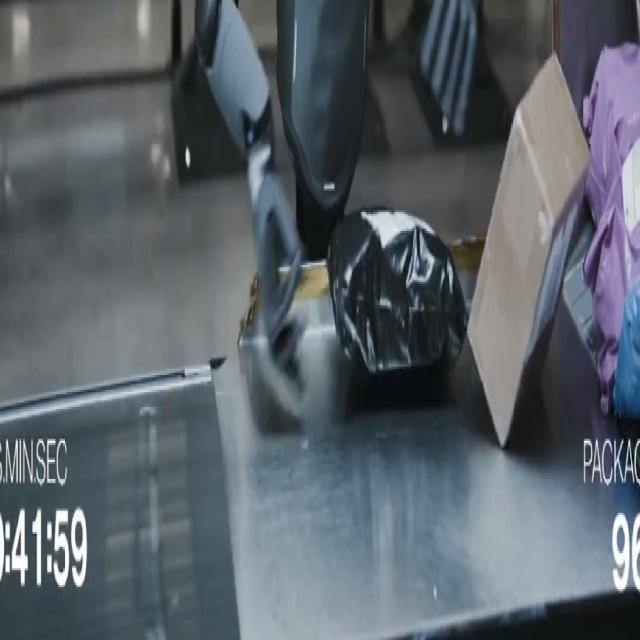package: (468, 56, 588, 447), (327, 208, 467, 375), (584, 45, 639, 415), (614, 278, 639, 421)
